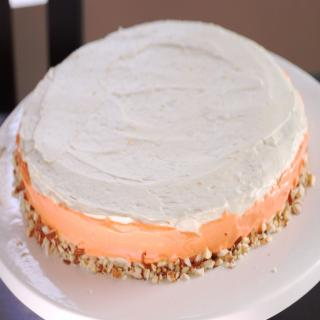Cake: (10, 14, 312, 280)
